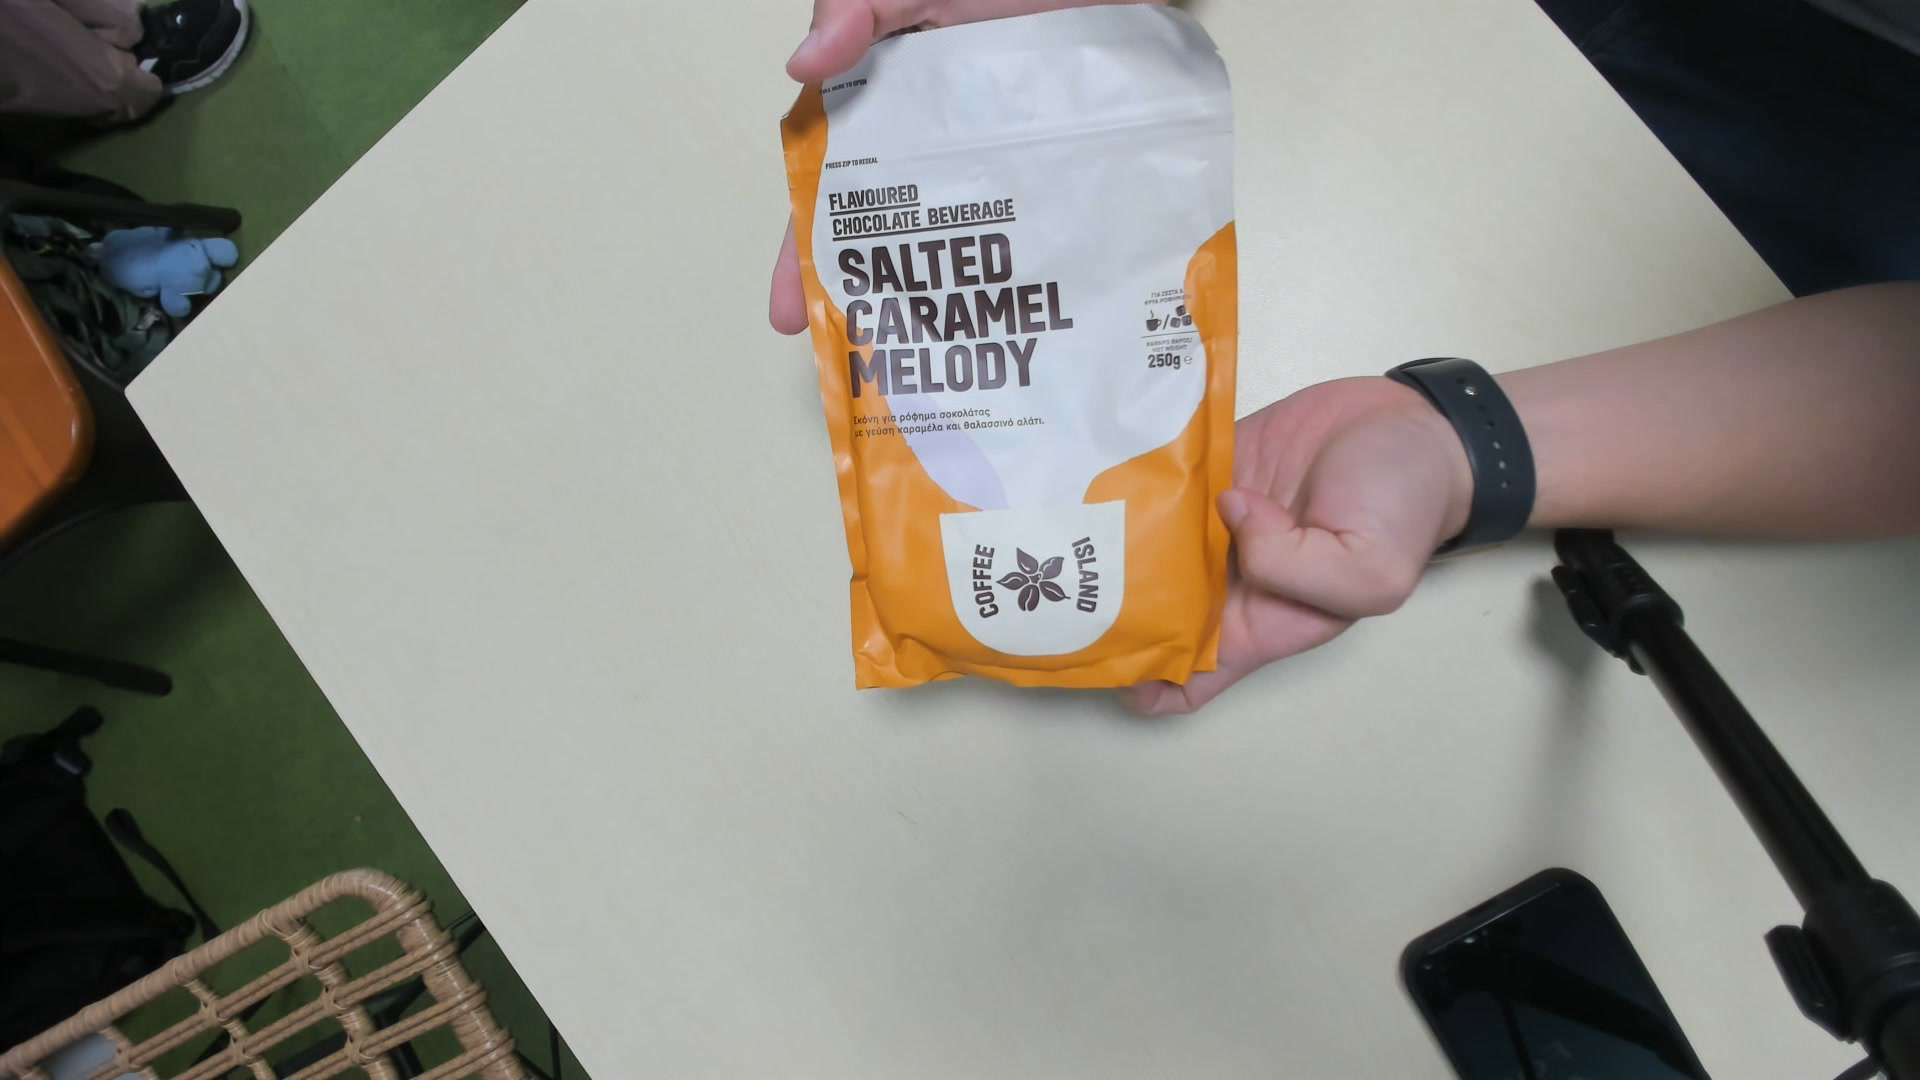Coffee_200-299g_NonHalal_NonHealthy: (781, 11, 1236, 698)
